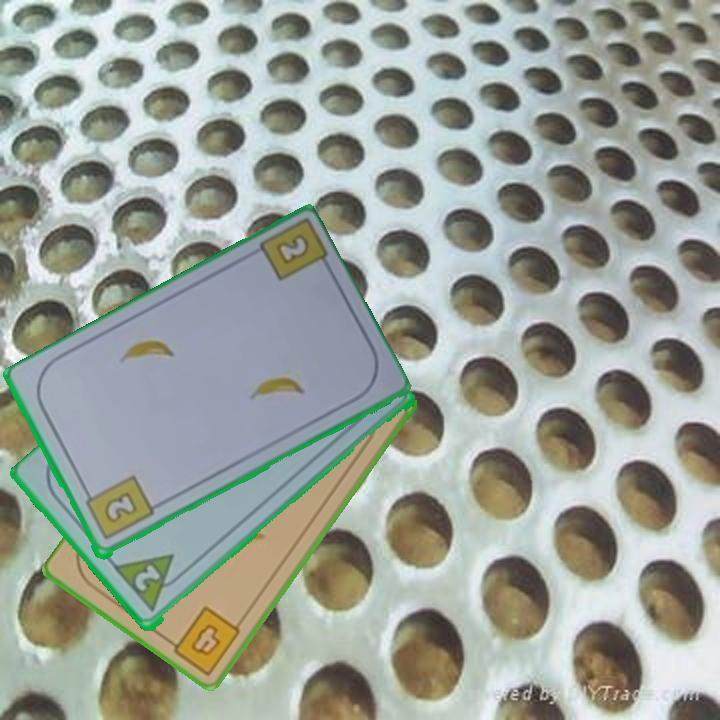2b: (80, 472, 157, 543), (275, 234, 309, 265)
2p: (111, 550, 190, 616)
4b: (163, 602, 244, 678)
